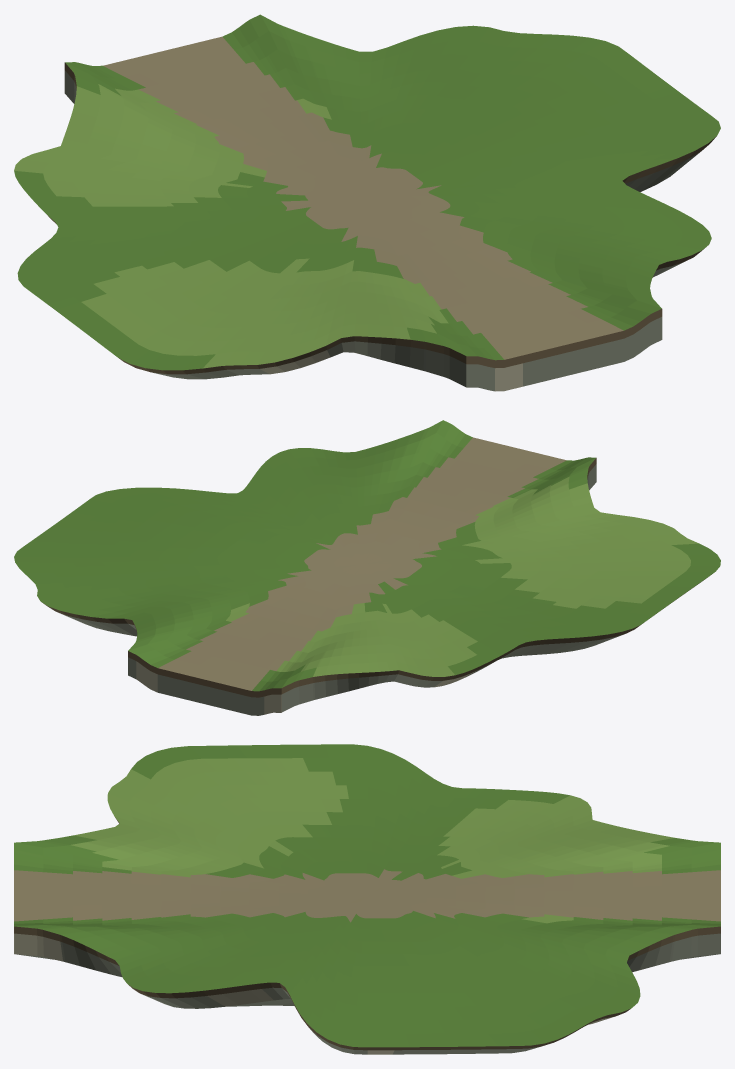
Rendered from fern_hollow_structure.fbx.
3 renders of one model, top to bottom at view 1: azimuth 30°, elevation 25°; view 2: azimuth 150°, elevation 25°; view 3: azimuth 270°, elevation 25°, orthographic. The views are drawn at different scales.
Visible parts, largest first — view 1: chunk_fern_hollow; view 2: chunk_fern_hollow; view 3: chunk_fern_hollow.
Part boxes in pixels (x1,y1,x2,y2): chunk_fern_hollow: [14, 14, 720, 391]; chunk_fern_hollow: [14, 420, 720, 715]; chunk_fern_hollow: [14, 744, 720, 1054].
Bounding box in the file's own units: 256 × 43.5 × 256.
